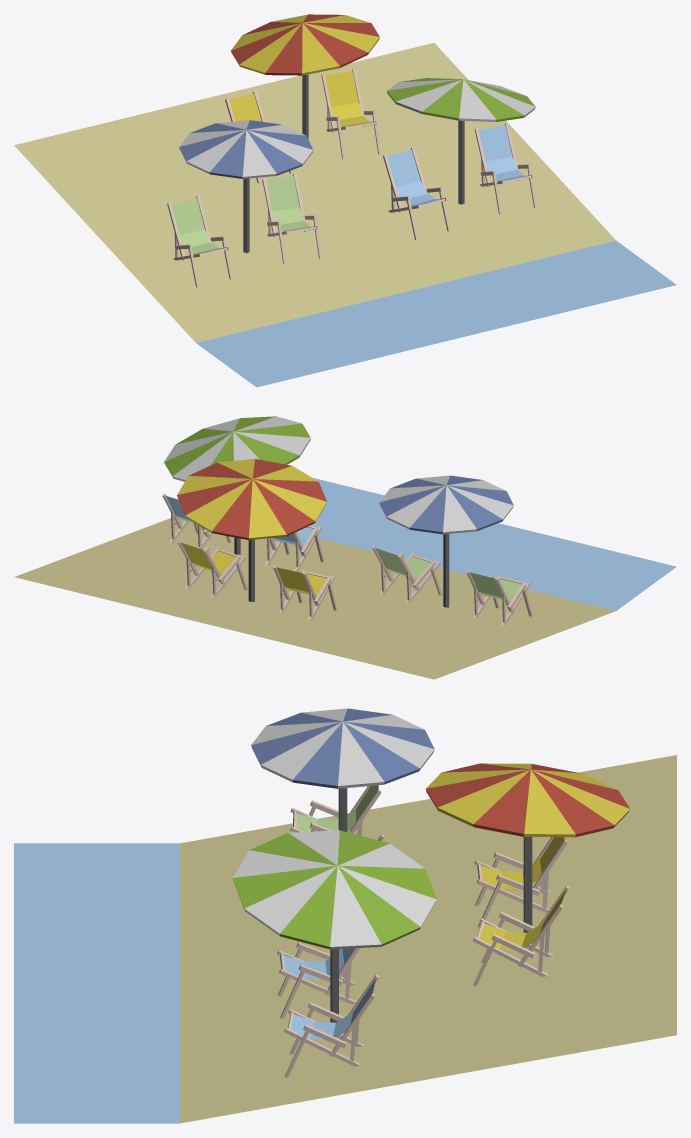
Rendered from beach_tile_1x1_003.fbx.
3 renders of one model, top to bottom at view 1: azimuth 30°, elevation 25°; view 2: azimuth 150°, elevation 25°; view 3: azimuth 270°, elevation 25°, orthographic. The views are drawn at different scales.
Parts seen in each view (by area): view 1: beach_tile_1x1_003; view 2: beach_tile_1x1_003; view 3: beach_tile_1x1_003.
Part boxes in pixels (x1,y1,x2,y2): beach_tile_1x1_003: (14, 14, 676, 387); beach_tile_1x1_003: (14, 416, 676, 679); beach_tile_1x1_003: (14, 708, 676, 1123).
Size of the model in its own units: 800 by 307 by 800.
